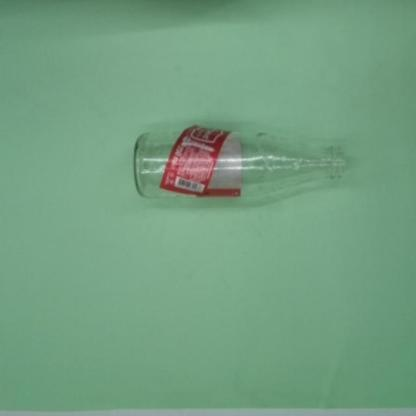Can: (134, 131, 346, 198)
